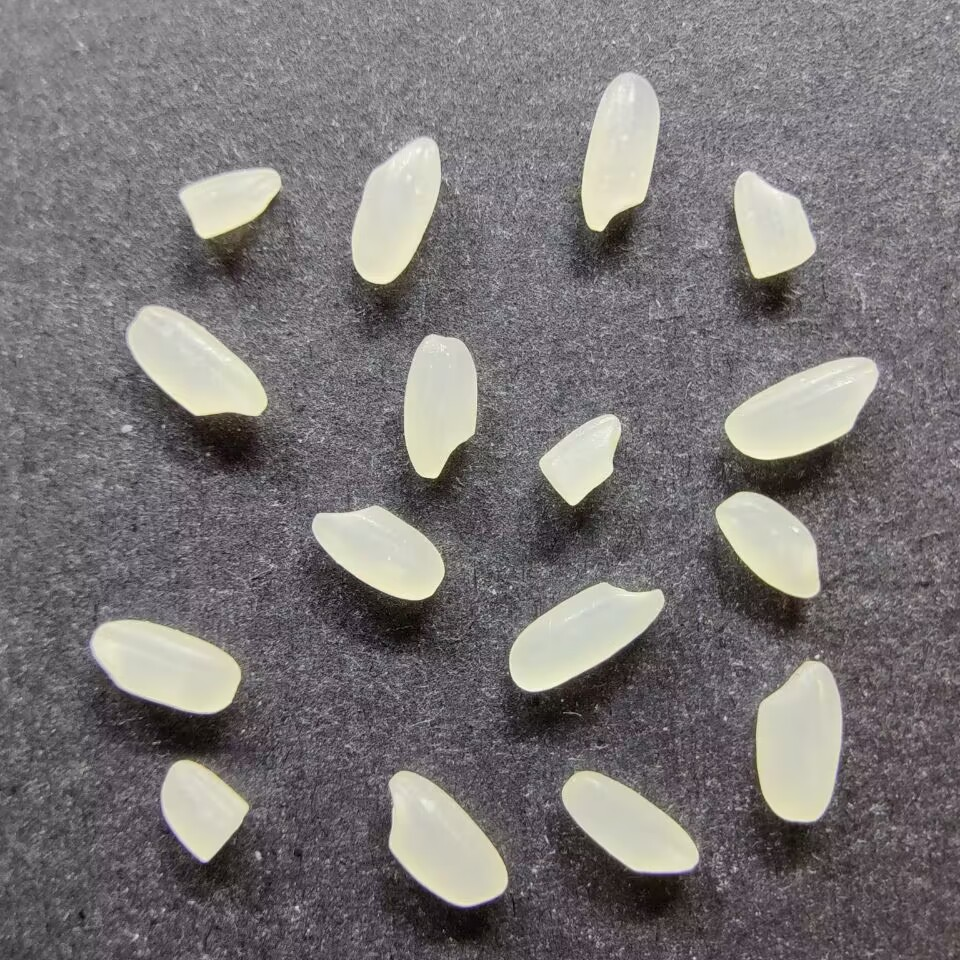broken: (157, 756, 252, 865), (732, 166, 819, 281), (534, 411, 623, 508), (177, 166, 286, 242)
rice: (505, 577, 666, 693), (383, 769, 510, 910), (122, 301, 269, 418), (721, 354, 880, 461), (753, 657, 845, 823), (559, 766, 699, 875), (88, 617, 244, 714), (350, 135, 443, 286), (581, 70, 664, 234), (309, 503, 446, 602), (714, 486, 823, 600), (400, 331, 480, 480)
